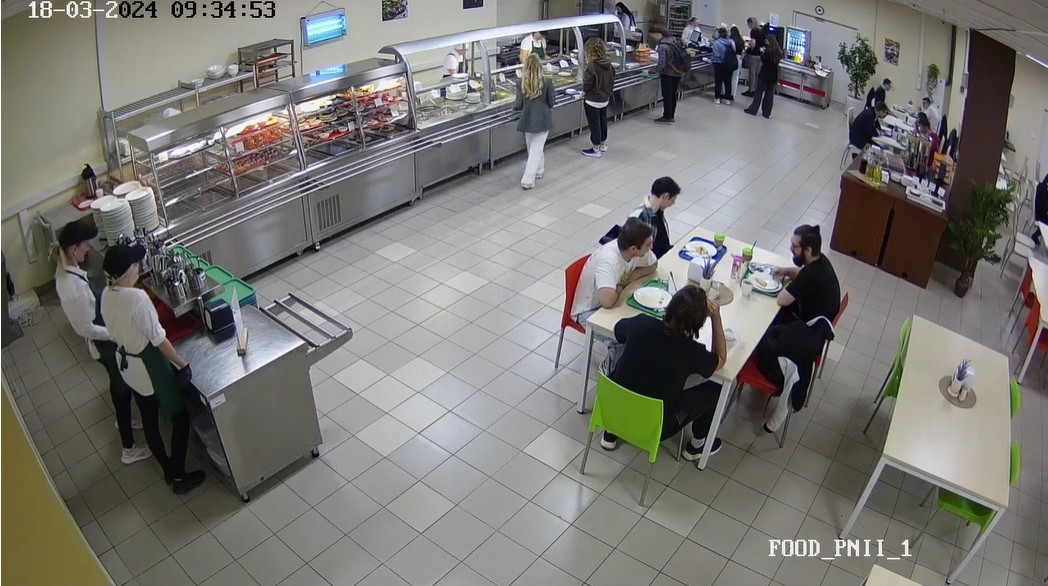Na_Kasse: (742, 33, 784, 110), (710, 27, 733, 102), (725, 14, 748, 89), (744, 6, 761, 62)
Personal: (94, 243, 196, 472), (56, 225, 151, 455), (442, 27, 475, 78), (610, 5, 637, 48), (527, 18, 559, 52), (682, 11, 700, 45)
Vybiraet: (510, 52, 553, 184), (583, 38, 616, 155), (651, 26, 684, 124)
Za_Stolom: (576, 295, 733, 469), (552, 210, 665, 368), (773, 224, 839, 329), (839, 92, 891, 153), (635, 174, 676, 240), (1021, 162, 1048, 246), (912, 119, 941, 153), (877, 73, 902, 102), (921, 95, 940, 117)
